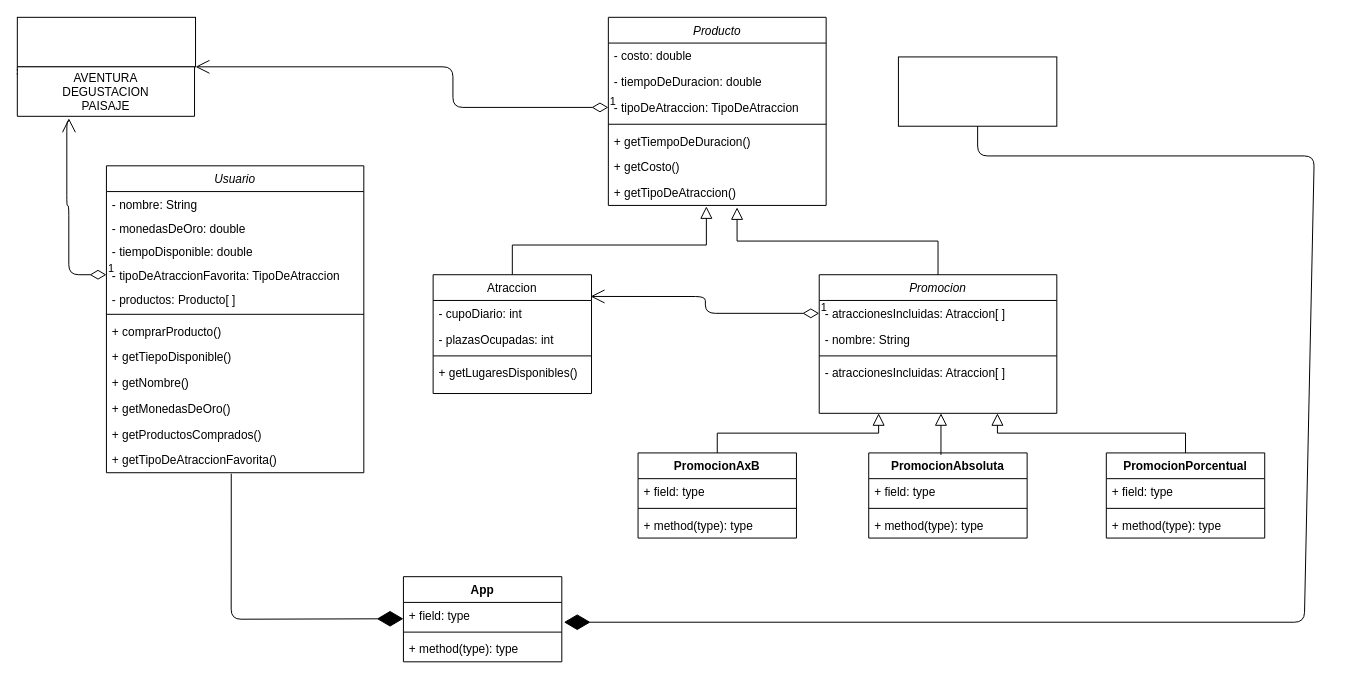
This 1357x682 diagram has some shape labels left out. The centre of each missing label's shape, as x and y in pixels:
"«comparator» ComparadorDeProducto" goes at (977,91).
"«enum» TipoDeAtraccion" goes at (106,41).
